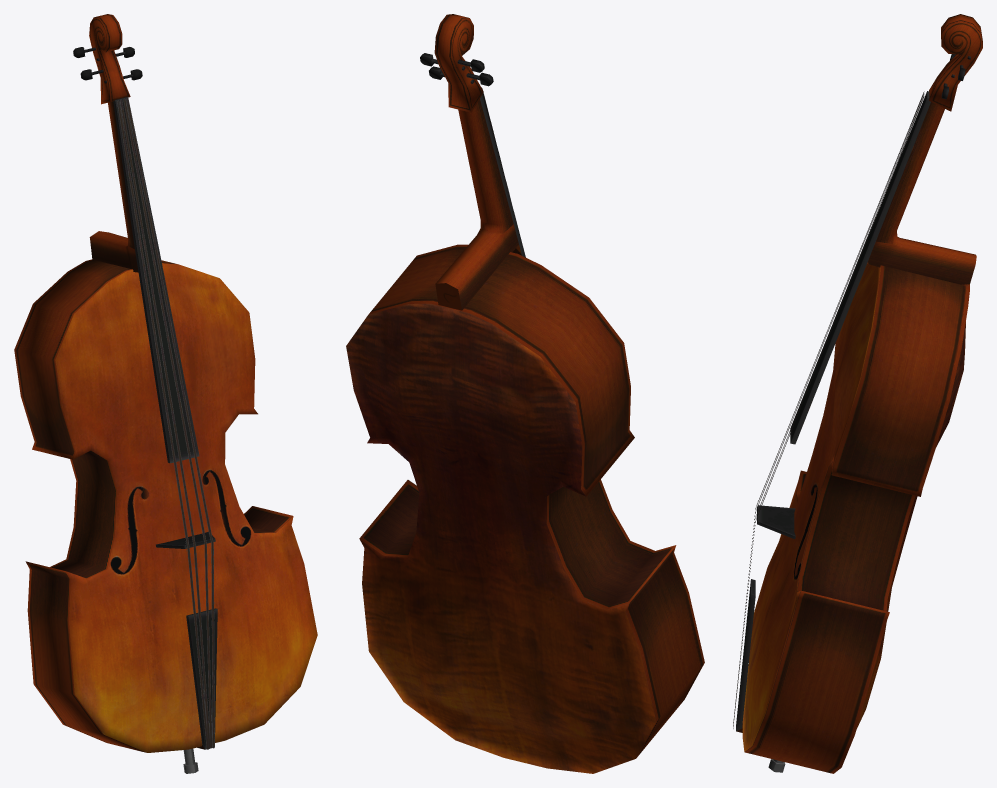
Rendered from cello.DAE.
3 views of the same model, side by side, from view 1: azimuth 30°, elevation 25°; view 2: azimuth 150°, elevation 25°; view 3: azimuth 270°, elevation 25° (orthographic). The views are drawn at different scales.
Parts seen in each view (by area): view 1: Box001; view 2: Box001; view 3: Box001.
Boxes of the visible parts, x1,y1,x2,y2 form: Box001: [14, 14, 317, 773]; Box001: [346, 14, 704, 773]; Box001: [733, 14, 982, 773].
Bounding box in the file's own units: 1163 × 954 × 3175.
